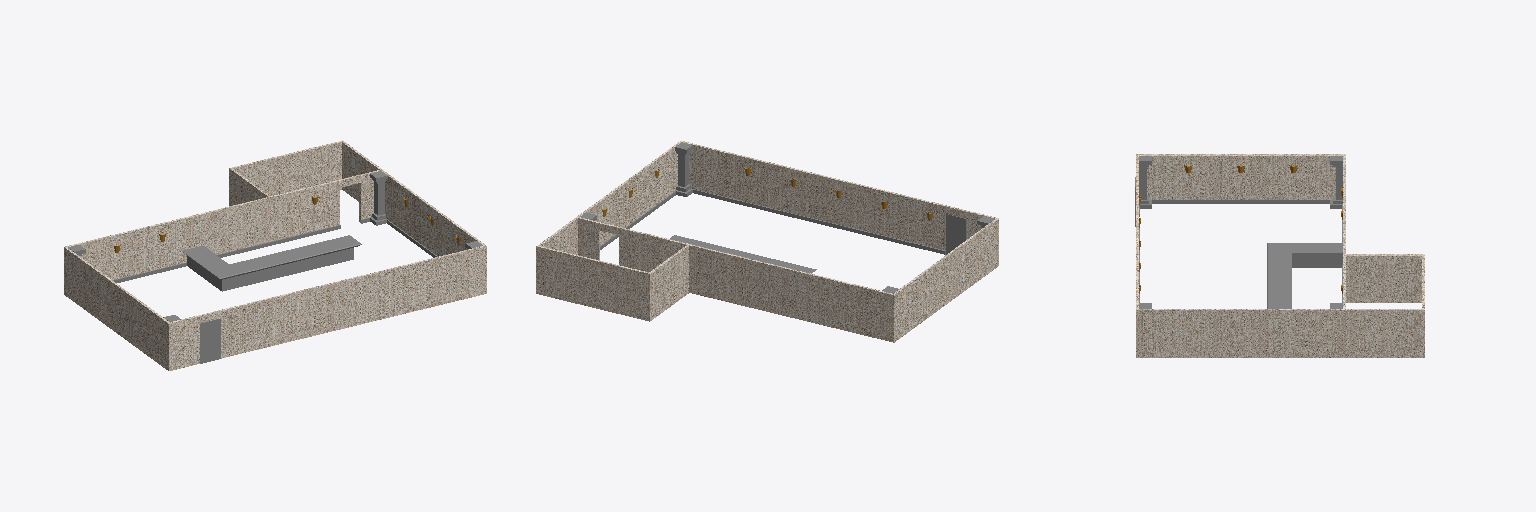
3 views of the same model, side by side, from view 1: azimuth 30°, elevation 25°; view 2: azimuth 150°, elevation 25°; view 3: azimuth 270°, elevation 25° (orthographic).
Visible parts, largest first — view 1: DoorBox002, Box004, Box009, DoorBox, Box007, Box006; view 2: DoorBox002, Box004, DoorBox, Box009, Box006; view 3: DoorBox002, Box004, Box009, DoorBox, Box007.
Boxes of the visible parts, x1=… form: DoorBox002: x1=64, y1=169, x2=486, y2=370; Box004: x1=229, y1=140, x2=380, y2=205; Box009: x1=182, y1=235, x2=361, y2=279; DoorBox: x1=68, y1=171, x2=482, y2=321; Box007: x1=187, y1=248, x2=353, y2=291; Box006: x1=200, y1=318, x2=220, y2=363; DoorBox002: x1=576, y1=141, x2=998, y2=342; Box004: x1=536, y1=218, x2=688, y2=321; DoorBox: x1=580, y1=142, x2=994, y2=293; Box009: x1=670, y1=235, x2=816, y2=273; Box006: x1=946, y1=214, x2=966, y2=254; DoorBox002: x1=1136, y1=154, x2=1345, y2=357; Box004: x1=1346, y1=254, x2=1424, y2=357; Box009: x1=1267, y1=243, x2=1342, y2=308; DoorBox: x1=1139, y1=156, x2=1342, y2=308; Box007: x1=1292, y1=255, x2=1342, y2=267.
Bounding box in the file's own units: 140 × 20 × 110.
5 materials, 1 textured.